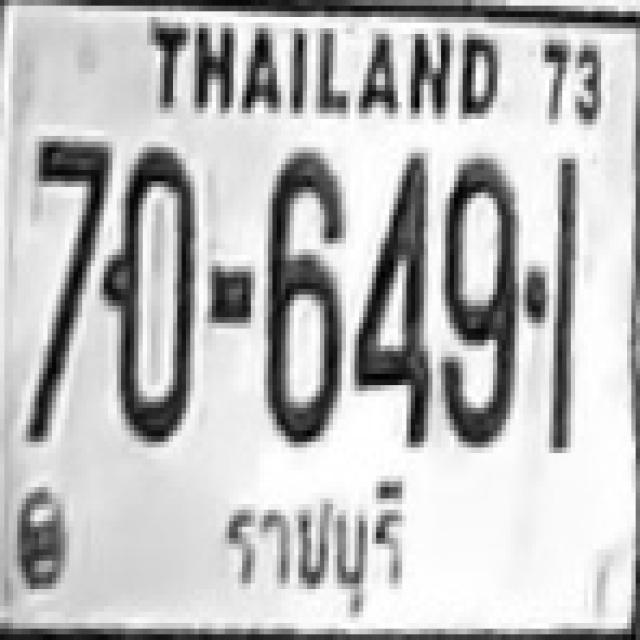0: (101, 142, 192, 436)
4: (350, 147, 428, 442)
6: (262, 144, 344, 439)
7: (22, 136, 108, 436), (28, 136, 110, 430)
9: (439, 153, 517, 442)
RBR: (204, 456, 430, 633)
